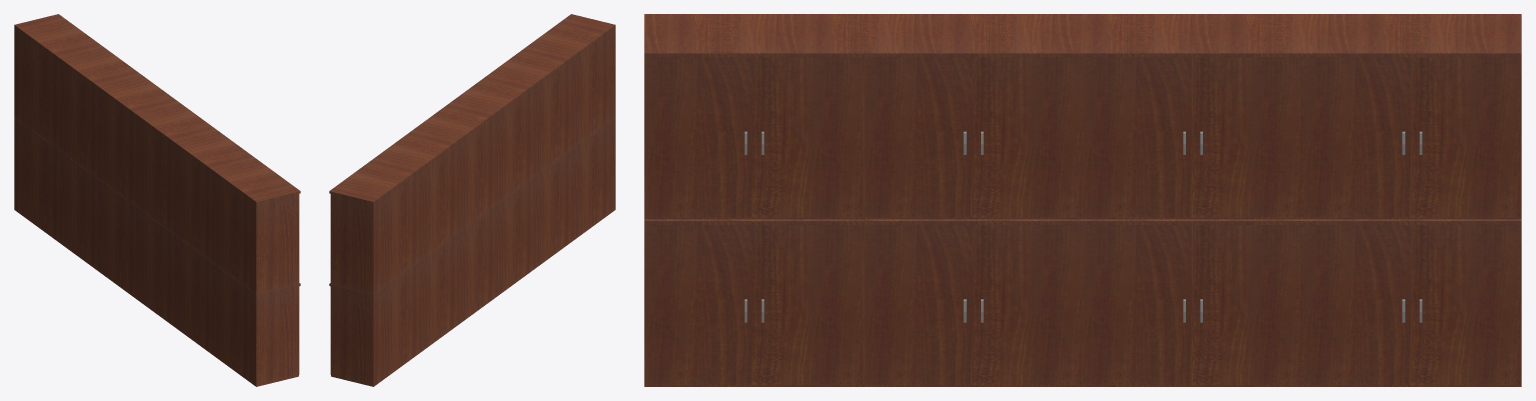
The model's file is CK-guizi0006-CJBZ.FBX.
The picture shows the model from 3 angles, left to right: view 1: azimuth 30°, elevation 25°; view 2: azimuth 150°, elevation 25°; view 3: azimuth 270°, elevation 25°; orthographic projection. The views are drawn at different scales.
Parts seen in each view (by area): view 1: CK-guizi0006-CJBZ; view 2: CK-guizi0006-CJBZ; view 3: CK-guizi0006-CJBZ.
Part boxes in pixels (x1,y1,x2,y2): CK-guizi0006-CJBZ: (14,14,300,386); CK-guizi0006-CJBZ: (329,14,615,386); CK-guizi0006-CJBZ: (644,14,1521,386).
Bounding box in the file's own units: 0.5706 × 2.22 × 5.27.
Materials: 2 (1 with a texture image).
